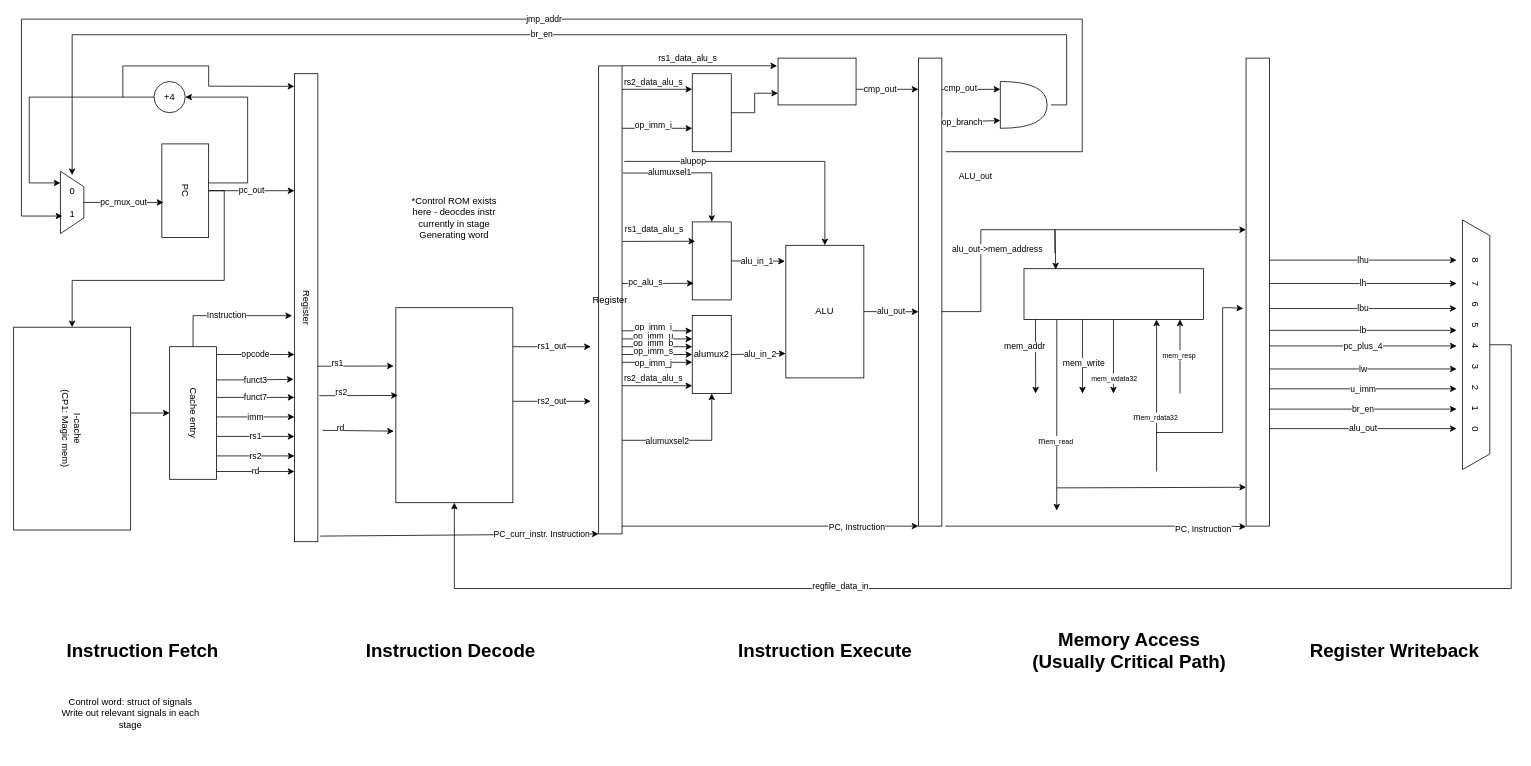
Image size: 1531x766. Some labels were removed from this diagram. Here are the shapes that lost their labels. From the top down, the centre of each, then its label:
the point at 816,81: CMP
the point at 711,112: CMPMUX
the point at 711,260: alumux1
the point at 1113,293: Data Memory (D-cache)
the point at 454,405: Regfile
